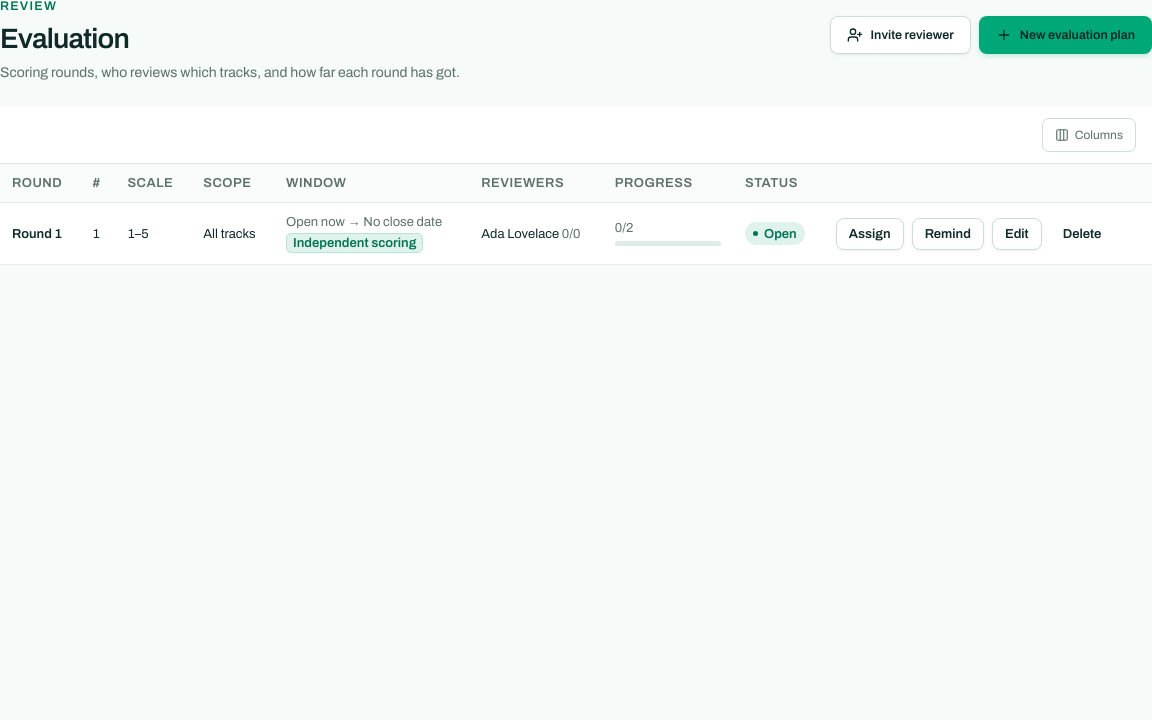
Test: evaluation round list after a write › shows the assignment the toast just confirmed, without a reload
The width and height of the screenshot is (1152, 720).
Expected: the row that starts with "Round 1" shows "0/0", [0,202,1151,264]
Click the button "Assign": (870, 234) [836,218,904,250]
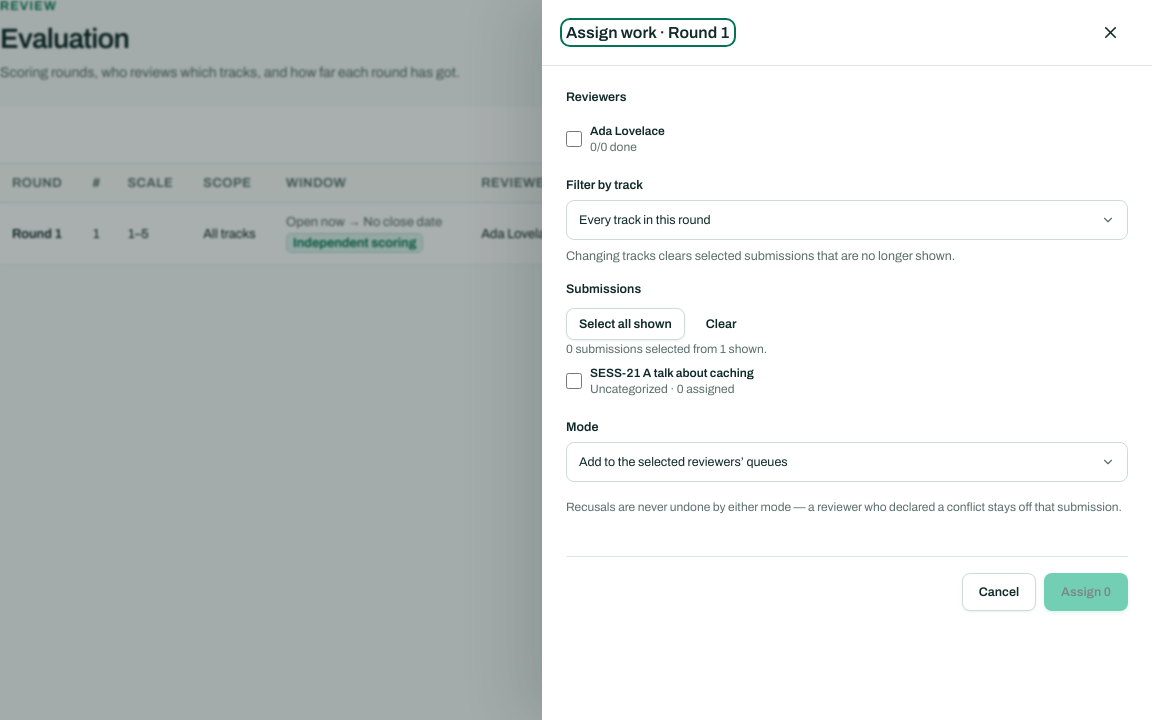
Click the checkbox labelled "Ada Lovelace 0/0 done": (574, 139) [566,131,582,147]
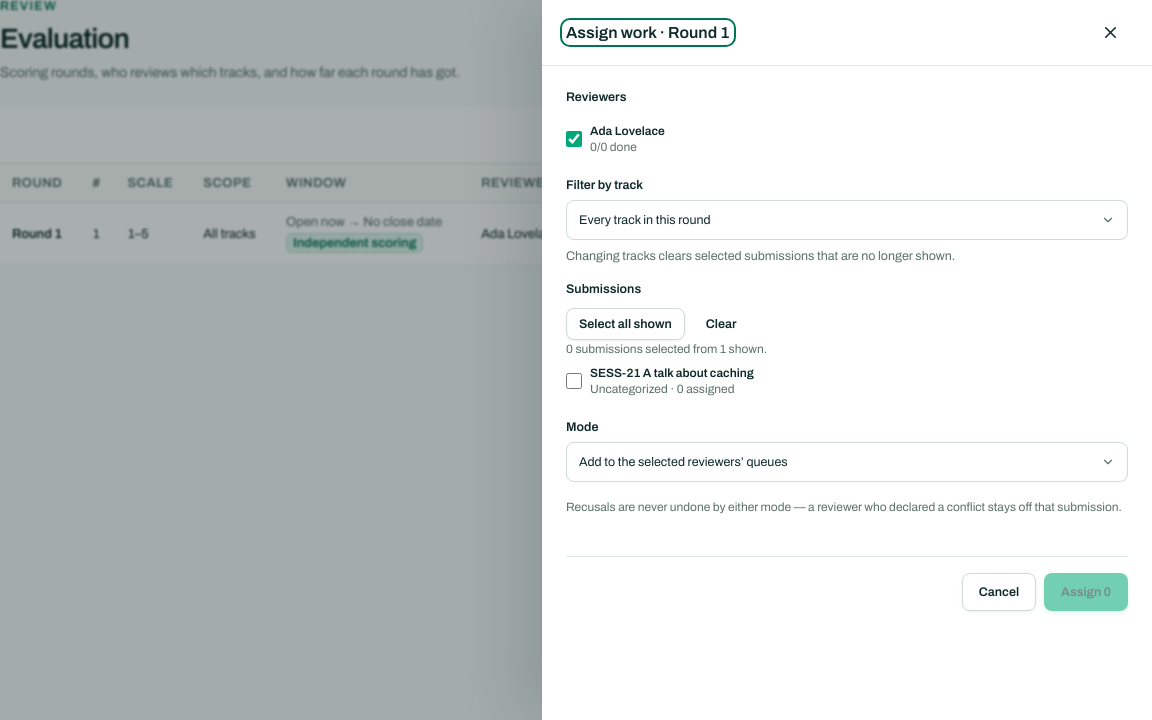
Click the checkbox labelled "SESS-21 A talk about caching Uncategorized · 0 assigned": (574, 380) [566,372,582,388]
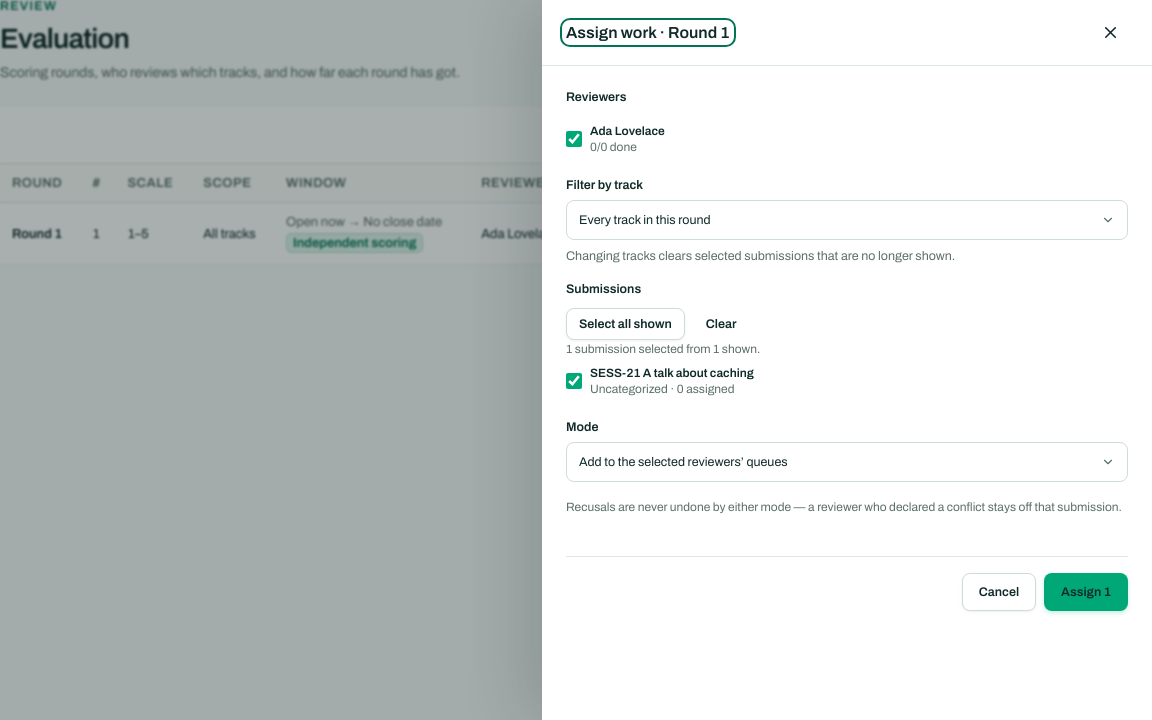
Click the button "Assign 1": (1086, 592) [1044,572,1128,610]
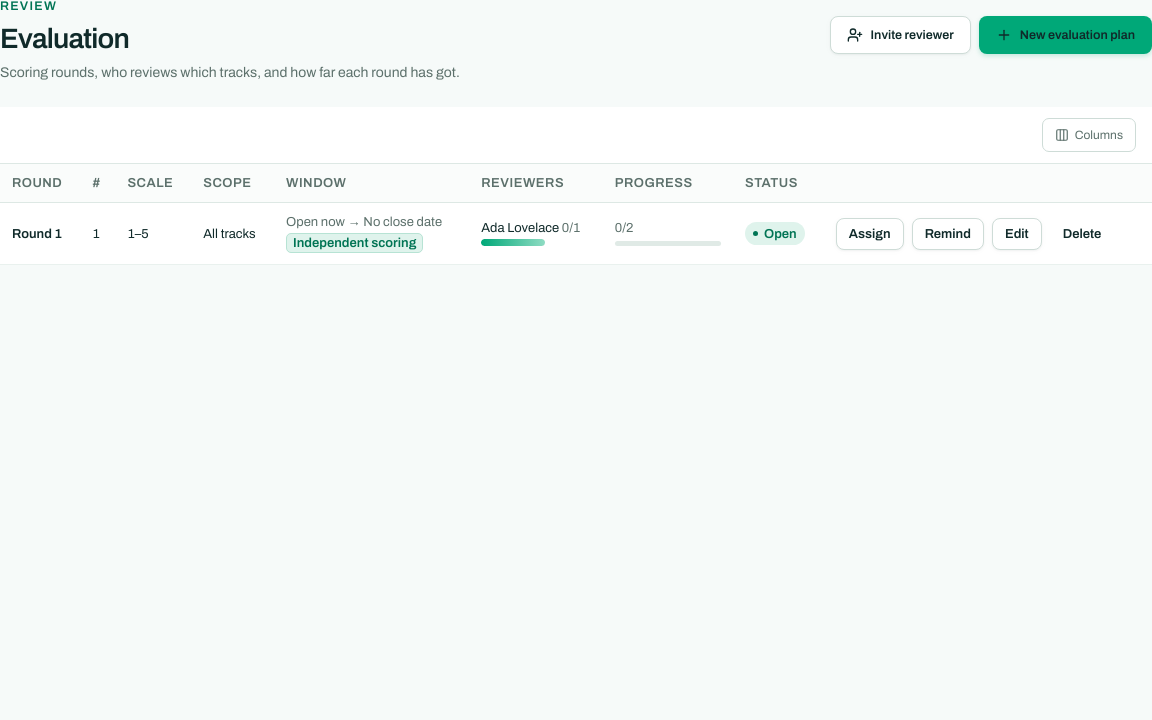
Expected: the row that starts with "Round 1" shows "0/1", [0,202,1151,264]
